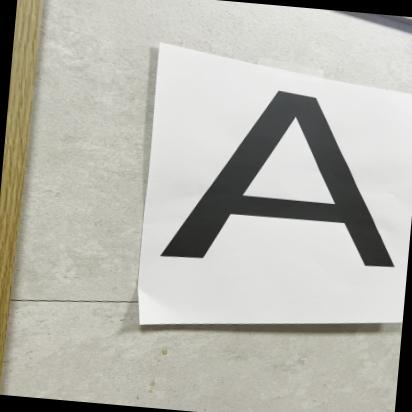seat: (148, 74, 412, 295)
